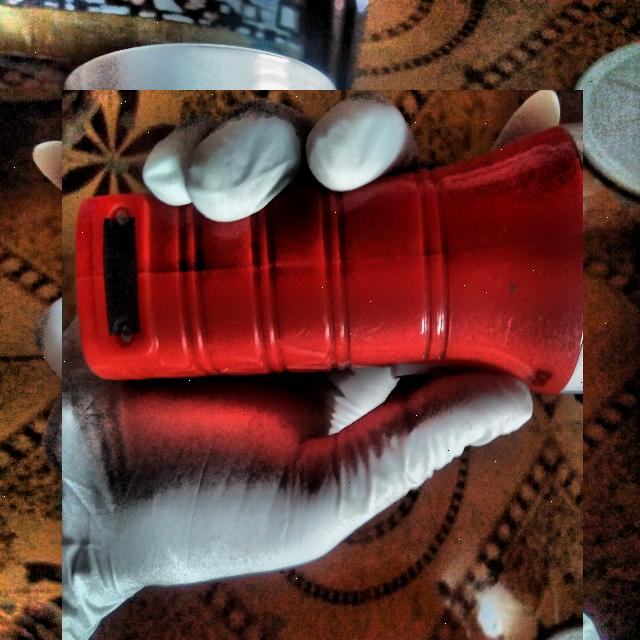gloved: (47, 103, 596, 640)
